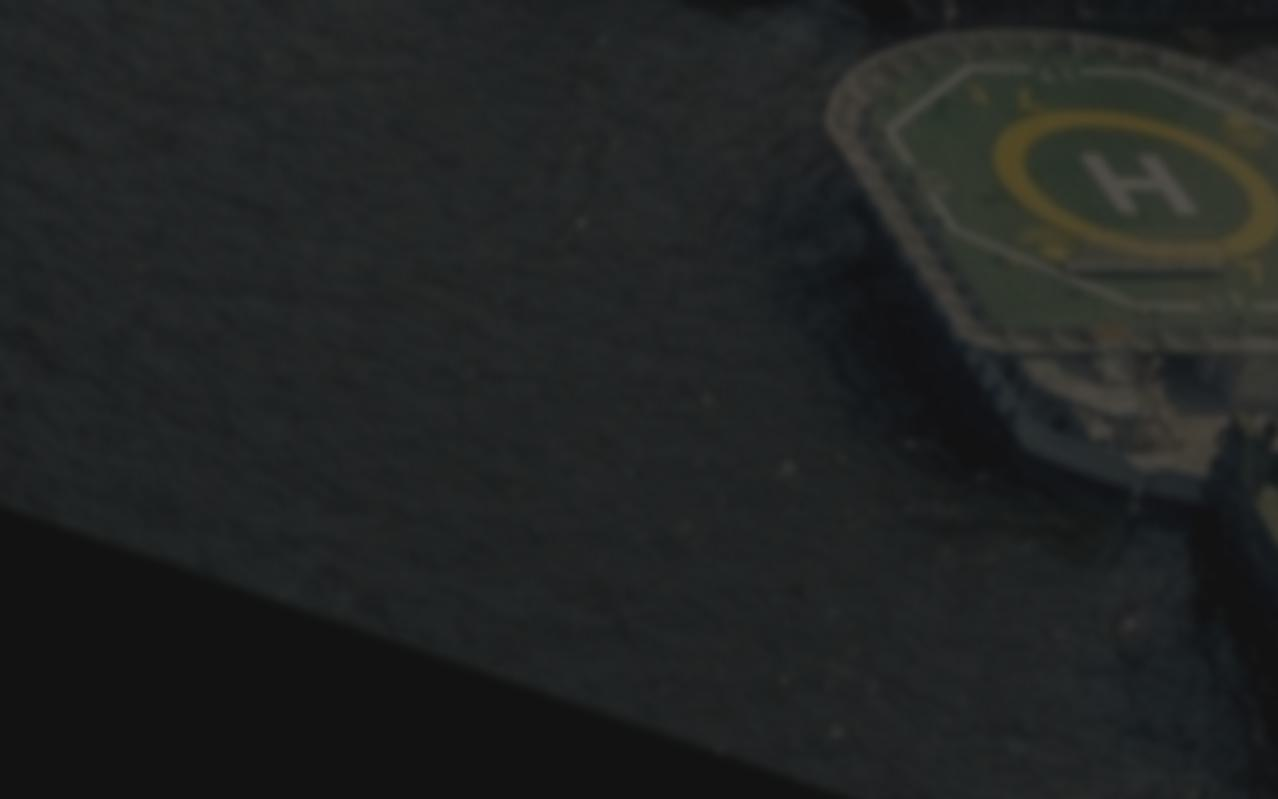Apron: (976, 74, 1278, 274)
